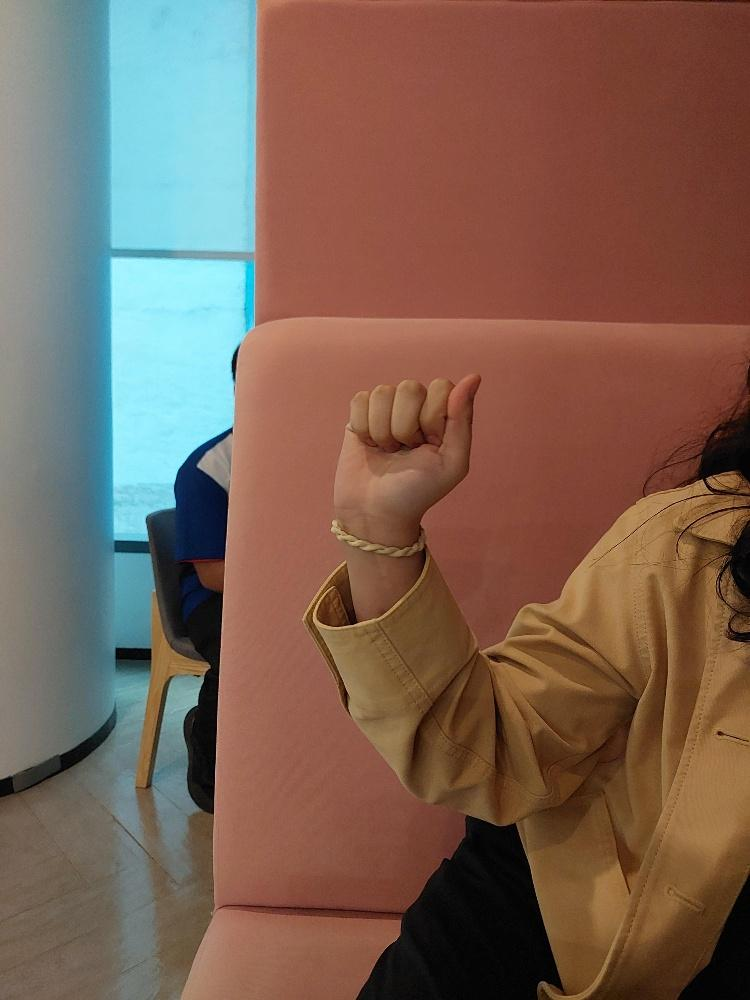a: (325, 365, 486, 533)
